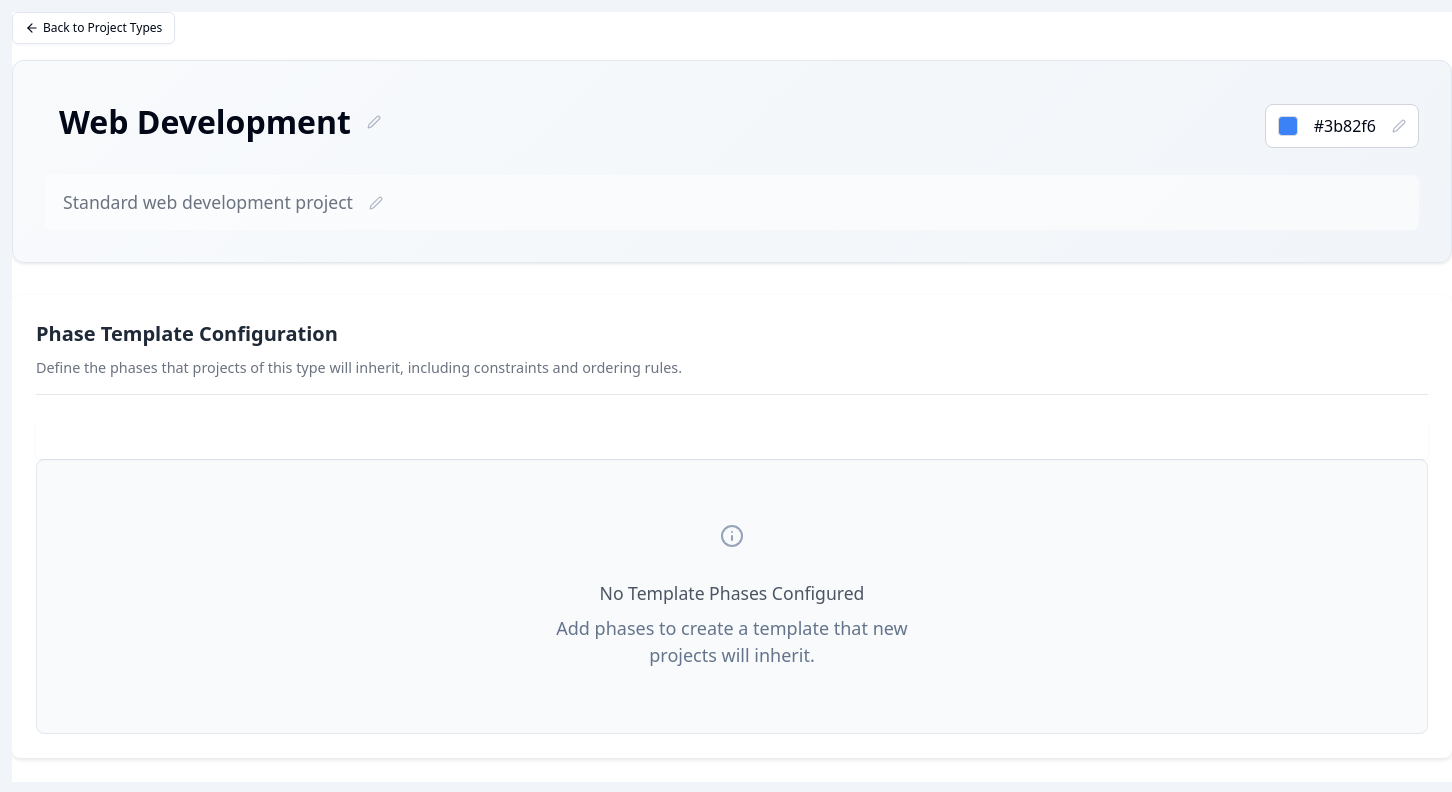
Scenario: ProjectTypeDetails › Inline Editing › cancels editing with Escape key
Click the text "Web Development".
click(205, 122)  # box [59,103,351,141]
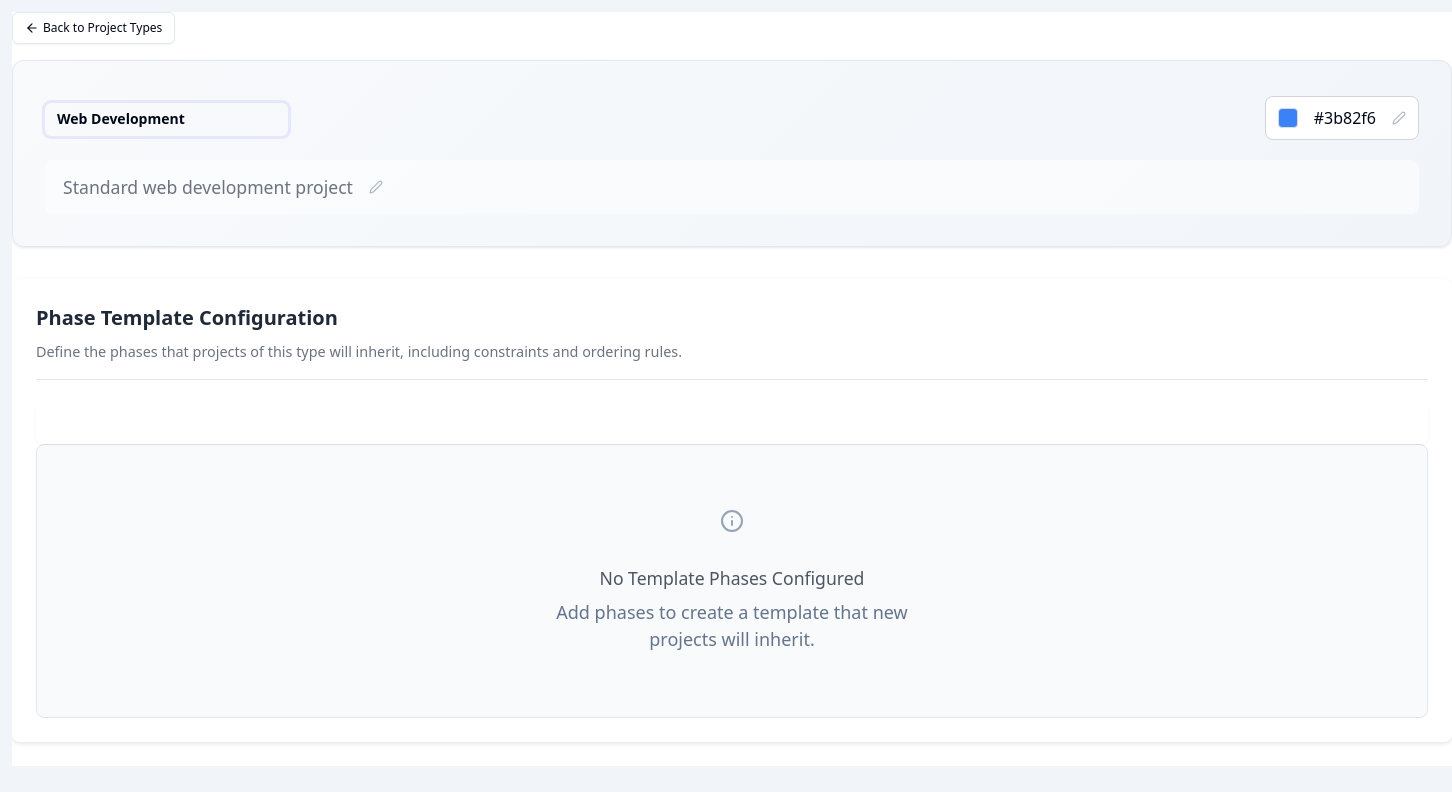
Replace the text in the field showing "Web Development" with "Cancelled Name" at (166, 119), box [45,103,288,136]
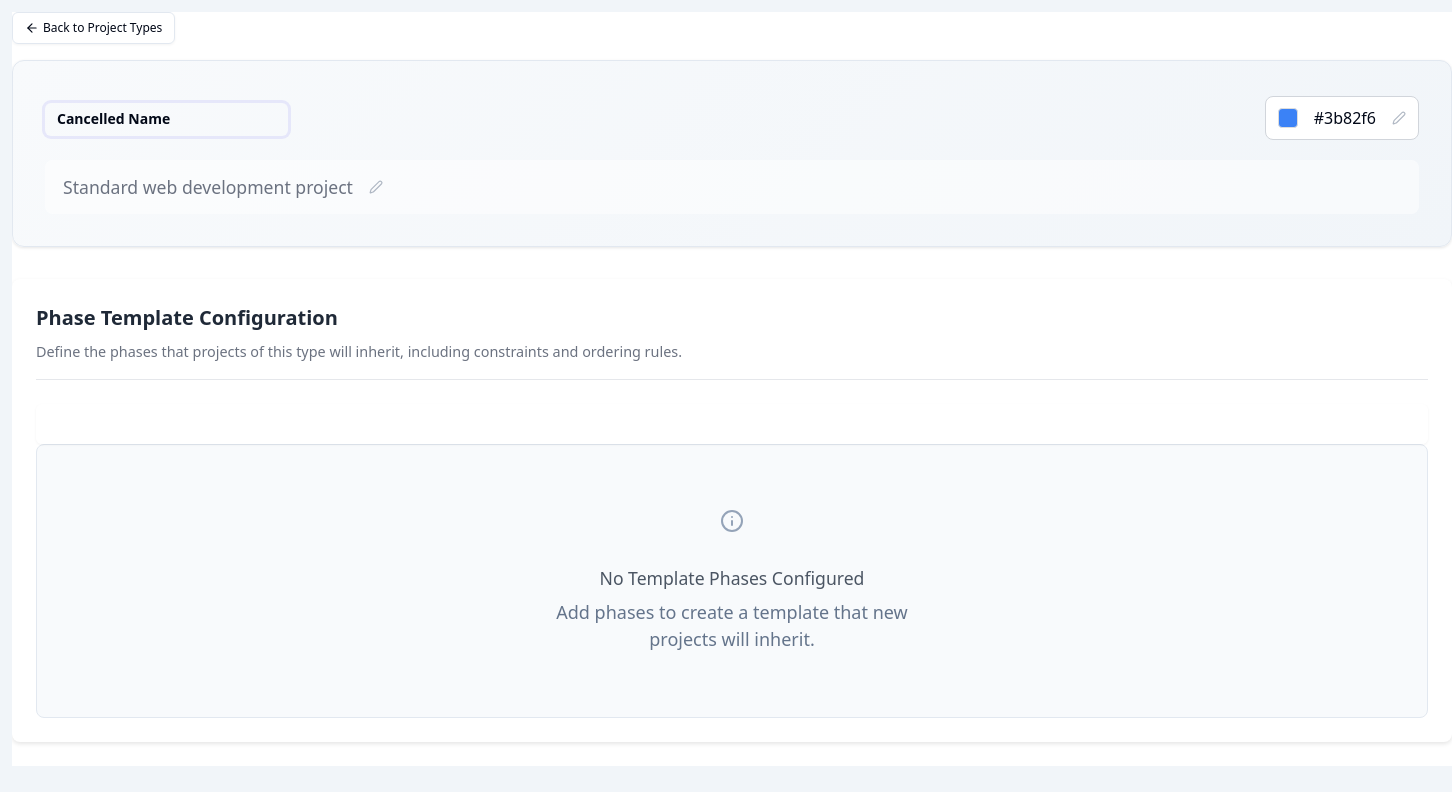
Press Escape in the field showing "Web Development", box [45,103,288,136]
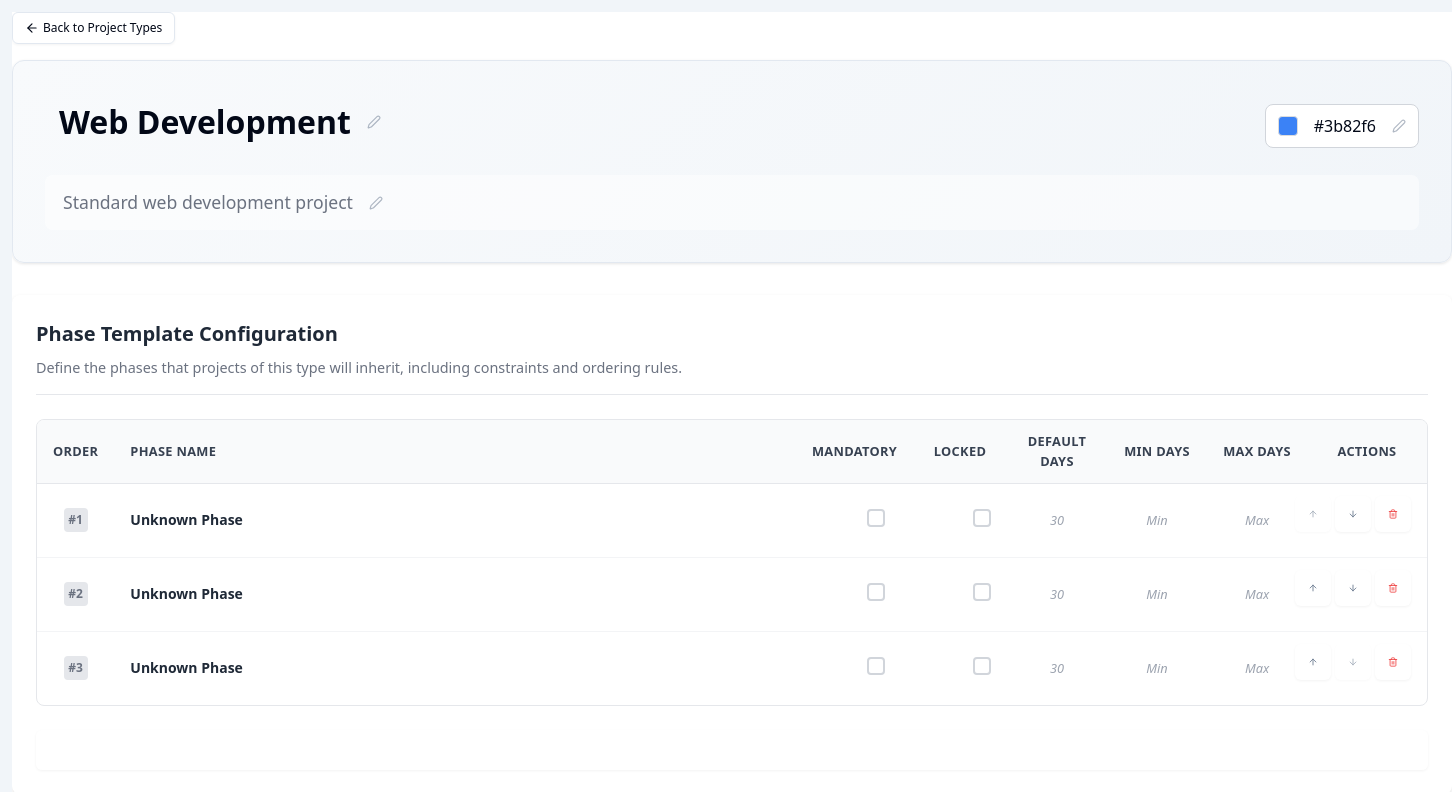
Expected: the text "Web Development" is shown, [59,103,351,141]
